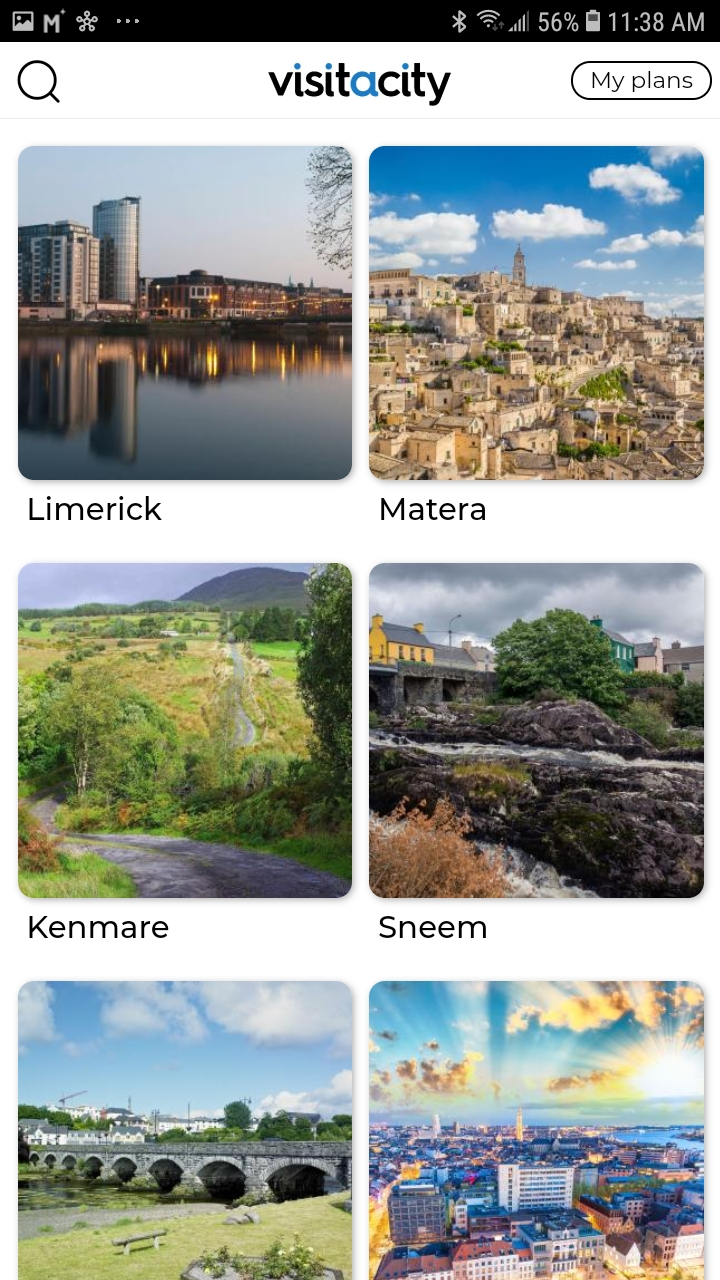Icon: (17, 60, 62, 104)
Image: (368, 563, 704, 899), (18, 563, 353, 899), (370, 146, 705, 481), (18, 146, 353, 481), (369, 980, 705, 1280), (18, 981, 353, 1280), (268, 63, 452, 107)
Text: (29, 496, 165, 522), (29, 915, 170, 939), (379, 915, 487, 939), (381, 499, 486, 522)
TextButton: (571, 62, 713, 102)
UpperTaskBar: (1, 1, 720, 43)
